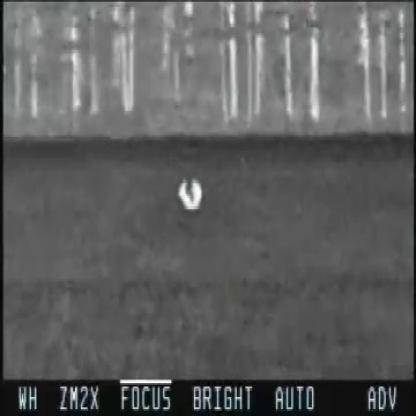rehkitze: (179, 176, 205, 208)
